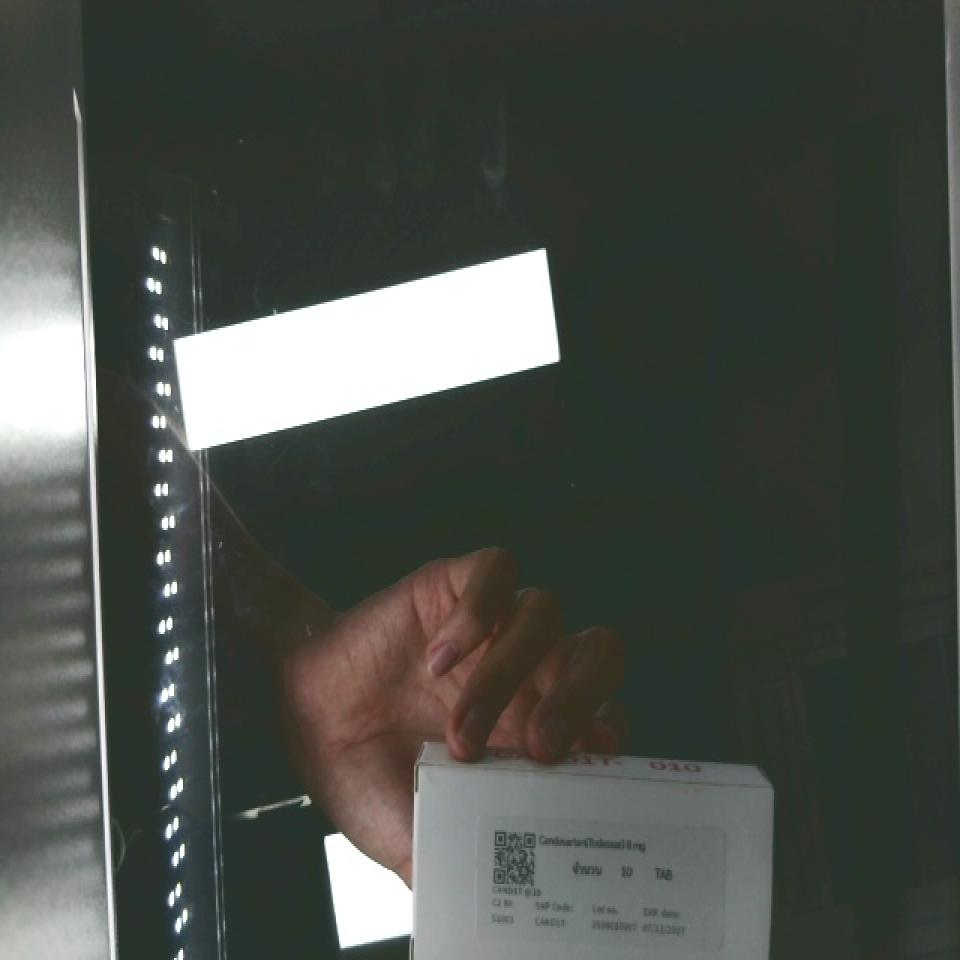medicine_box: (407, 769, 777, 960)
qr_code: (475, 810, 554, 913)
